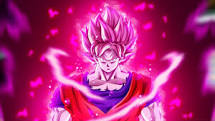Songoku: (80, 10, 137, 75)
